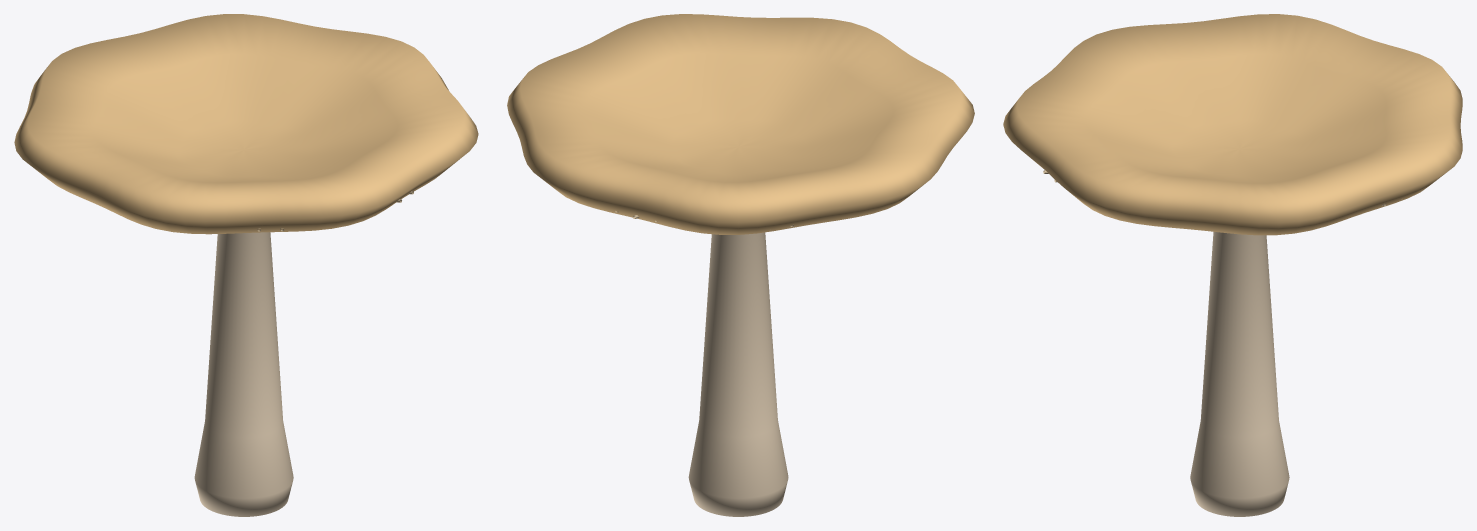
Rendered from milkcap.glb.
3 renders of one model, left to right at view 1: azimuth 30°, elevation 25°; view 2: azimuth 150°, elevation 25°; view 3: azimuth 270°, elevation 25°, orthographic.
Parts seen in each view (by area): view 1: milkcap; view 2: milkcap; view 3: milkcap.
Part boxes in pixels (x1,y1,x2,y2): milkcap: (14, 14, 478, 516); milkcap: (507, 14, 974, 516); milkcap: (1003, 14, 1462, 516).
Size of the model in its own units: 1.08 by 1 by 1.06.
